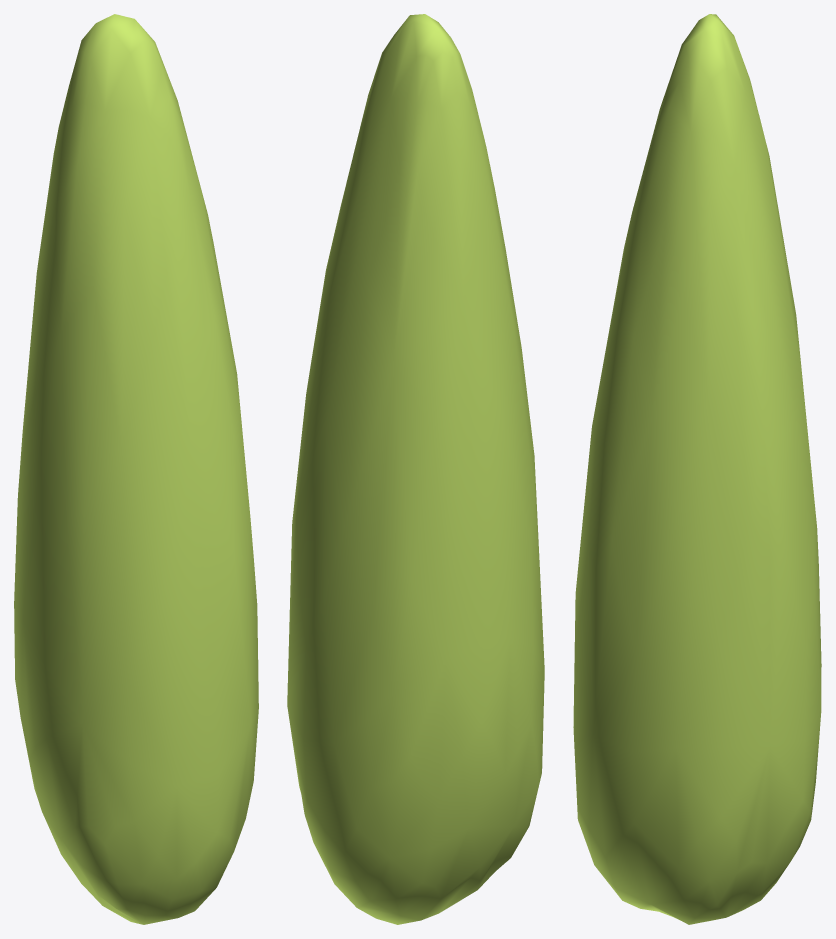
Rendered from BushTree_E.fbx.
3 renders of one model, left to right at view 1: azimuth 30°, elevation 25°; view 2: azimuth 150°, elevation 25°; view 3: azimuth 270°, elevation 25°, orthographic. The views are drawn at different scales.
Visible parts, largest first — view 1: Thuja_BushTree_m_02; view 2: Thuja_BushTree_m_02; view 3: Thuja_BushTree_m_02.
Boxes of the visible parts, x1,y1,x2,y2 form: Thuja_BushTree_m_02: (14, 14, 258, 924); Thuja_BushTree_m_02: (287, 14, 544, 924); Thuja_BushTree_m_02: (573, 14, 821, 924).
Bounding box in the file's own units: 102 × 422 × 106.
